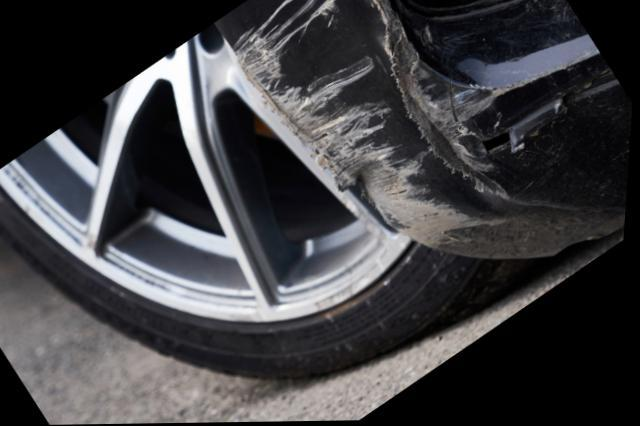rub: (232, 0, 603, 251)
